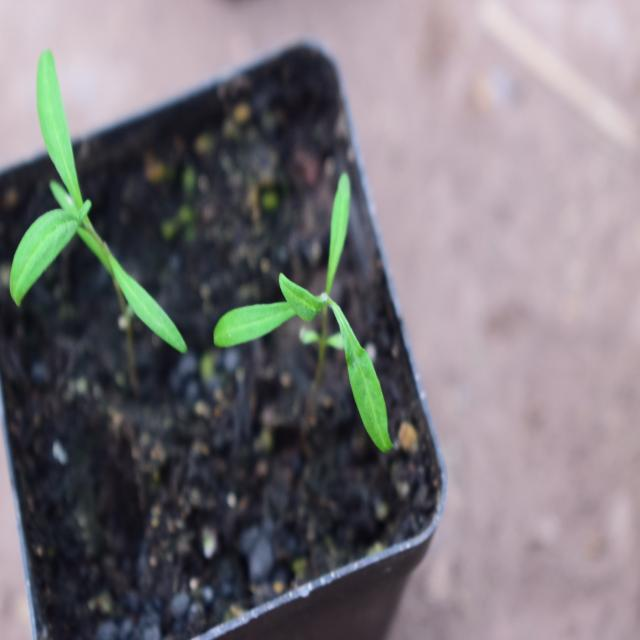white_smart_weed: (200, 158, 410, 448), (7, 42, 188, 364)
